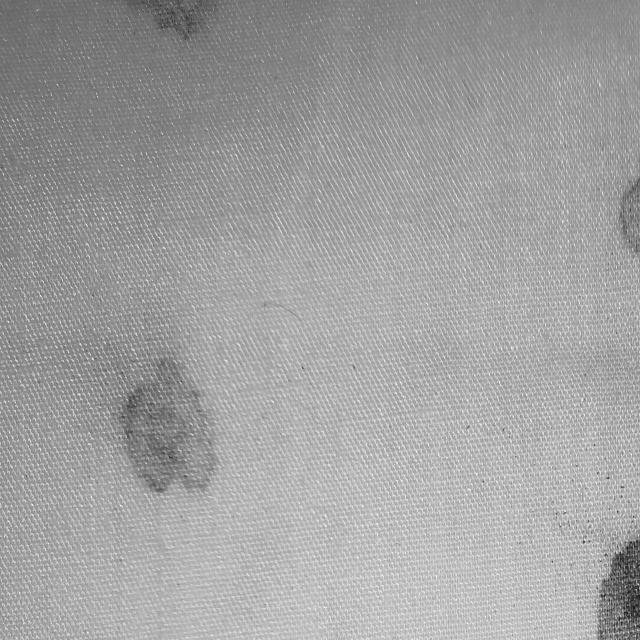Stain: (120, 358, 217, 492), (600, 541, 640, 640), (132, 0, 216, 38), (622, 178, 640, 252)
